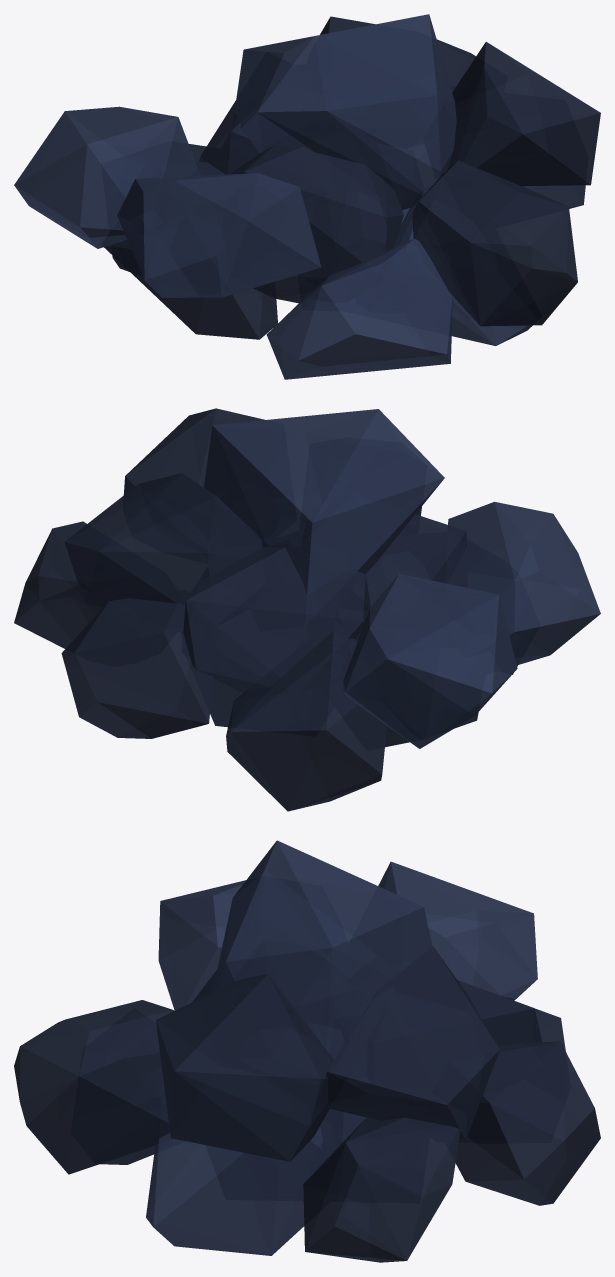
File: smoke_cloud.glb
3 renders of one model, top to bottom at view 1: azimuth 30°, elevation 25°; view 2: azimuth 150°, elevation 25°; view 3: azimuth 270°, elevation 25°, orthographic. The views are drawn at different scales.
Parts seen in each view (by area): view 1: puff_top, puff_9, puff_11, puff_6, puff_1, puff_8, puff_12, puff_4, puff_0, puff_3, puff_5, puff_2 (+2 smaller); view 2: puff_top, puff_2, puff_12, puff_5, puff_7, puff_10, puff_9, puff_1, puff_8, puff_13, puff_4, puff_0 (+1 smaller); view 3: puff_top, puff_8, puff_5, puff_11, puff_13, puff_10, puff_3, puff_12, puff_9, puff_0, puff_2, puff_1 (+2 smaller).
Part boxes in pixels (bbox=[...]): puff_top: bbox=[231, 14, 463, 209]; puff_9: bbox=[117, 173, 321, 297]; puff_11: bbox=[412, 160, 577, 326]; puff_6: bbox=[266, 239, 452, 379]; puff_1: bbox=[230, 120, 403, 303]; puff_8: bbox=[423, 42, 600, 186]; puff_12: bbox=[14, 106, 199, 248]; puff_4: bbox=[102, 158, 277, 339]; puff_0: bbox=[312, 144, 414, 286]; puff_3: bbox=[381, 186, 532, 345]; puff_5: bbox=[320, 16, 505, 148]; puff_2: bbox=[199, 83, 299, 174]; puff_top: bbox=[204, 409, 444, 641]; puff_2: bbox=[182, 545, 370, 696]; puff_12: bbox=[343, 574, 517, 748]; puff_5: bbox=[64, 473, 267, 632]; puff_7: bbox=[226, 619, 386, 811]; puff_10: bbox=[61, 590, 217, 738]; puff_9: bbox=[445, 501, 600, 665]; puff_1: bbox=[302, 494, 467, 605]; puff_8: bbox=[123, 408, 280, 552]; puff_13: bbox=[14, 521, 139, 648]; puff_4: bbox=[323, 609, 478, 747]; puff_0: bbox=[210, 538, 389, 727]; puff_top: bbox=[212, 840, 432, 1061]; puff_8: bbox=[156, 974, 346, 1161]; puff_5: bbox=[316, 946, 499, 1139]; puff_11: bbox=[14, 1000, 174, 1174]; puff_13: bbox=[303, 1114, 460, 1262]; puff_10: bbox=[432, 1041, 600, 1205]; puff_3: bbox=[146, 1093, 336, 1255]; puff_12: bbox=[378, 861, 537, 1000]; puff_9: bbox=[158, 880, 245, 1010]; puff_0: bbox=[206, 1023, 368, 1200]; puff_2: bbox=[349, 954, 542, 1093]; puff_1: bbox=[192, 941, 347, 1002].
Bounding box in the file's own units: 1.95 × 1.15 × 1.81.
